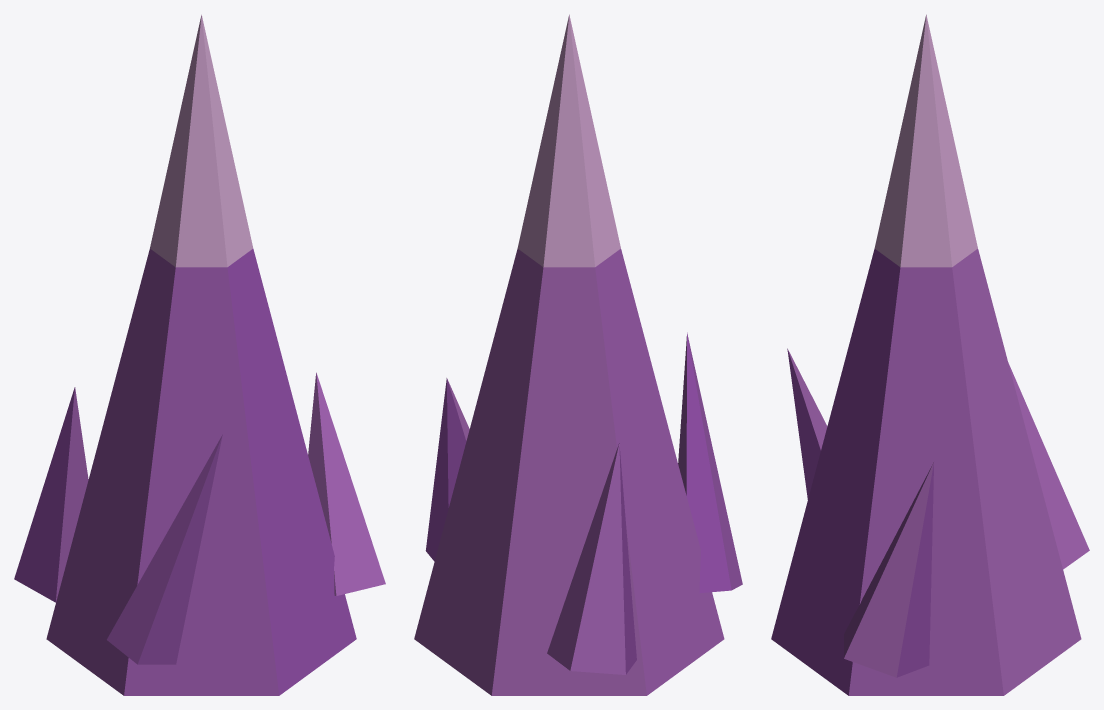
Rendered from Arcane_Shard.glb.
3 views of the same model, side by side, from view 1: azimuth 30°, elevation 25°; view 2: azimuth 150°, elevation 25°; view 3: azimuth 270°, elevation 25° (orthographic).
Visible parts, largest first — view 1: ArcaneShard; view 2: ArcaneShard; view 3: ArcaneShard.
Part boxes in pixels (x1,y1,x2,y2): ArcaneShard: (14, 15, 385, 695); ArcaneShard: (414, 14, 742, 695); ArcaneShard: (771, 14, 1089, 695).
Size of the model in its own units: 0.3844 by 0.8 by 0.3697.
